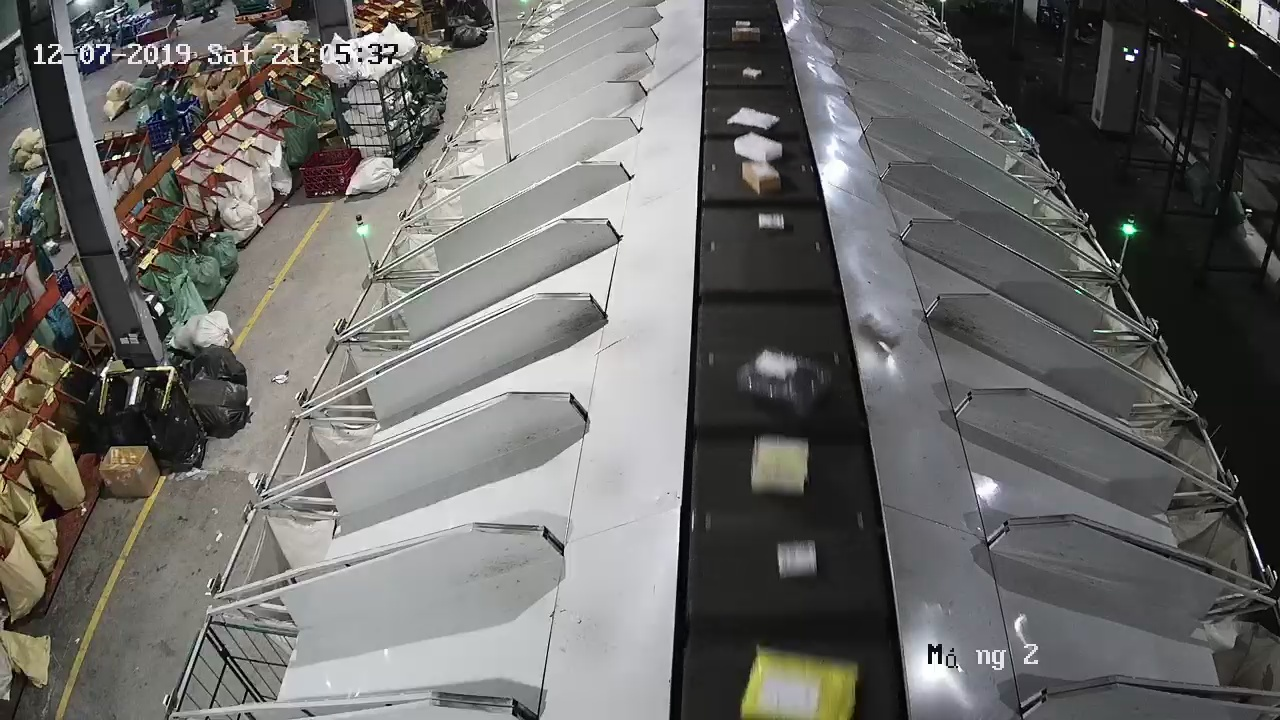parcel: (858, 311, 903, 346)
